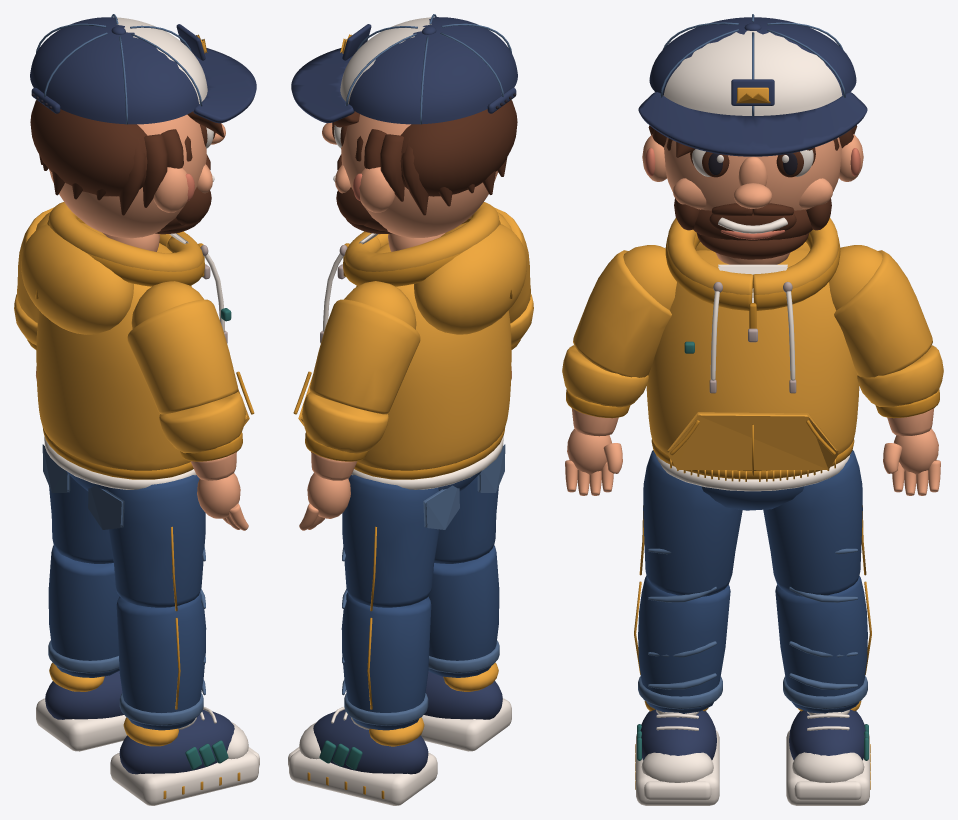
The picture shows the model from 3 angles, left to right: view 1: azimuth 30°, elevation 25°; view 2: azimuth 150°, elevation 25°; view 3: azimuth 270°, elevation 25°; orthographic projection.
Visible parts, largest first — view 1: torso__pal_schoolBusYellow, head__pal_capNavy, head__pal_woodWarm, armR__pal_schoolBusYellow, legR__pal_denimBlue, shinR__pal_denimBlue, head__pal_skinWarm, shinL__pal_denimBlue, footR__pal_picketWhite, head__pal_capNavy.001, footR__pal_capNavy, foreArmR__pal_schoolBusYellow (+17 smaller); view 2: torso__pal_schoolBusYellow, head__pal_capNavy, head__pal_woodWarm, armL__pal_schoolBusYellow, legL__pal_denimBlue, shinL__pal_denimBlue, head__pal_skinWarm, shinR__pal_denimBlue, footL__pal_picketWhite, head__pal_capNavy.001, footL__pal_capNavy, foreArmL__pal_schoolBusYellow (+17 smaller); view 3: torso__pal_schoolBusYellow, head__pal_capNavy, legL__pal_denimBlue, legR__pal_denimBlue, armL__pal_schoolBusYellow, armR__pal_schoolBusYellow, head__pal_skinWarm, head__pal_capNavy.001, shinL__pal_denimBlue, shinR__pal_denimBlue, head__pal_woodWarm, footR__pal_picketWhite (+19 smaller).
Boxes of the visible parts, x1,y1,x2,y2 form: torso__pal_schoolBusYellow: [21, 202, 249, 470]; head__pal_capNavy: [30, 17, 207, 124]; head__pal_woodWarm: [30, 100, 224, 234]; armR__pal_schoolBusYellow: [127, 281, 237, 414]; legR__pal_denimBlue: [108, 475, 205, 607]; shinR__pal_denimBlue: [116, 592, 206, 730]; head__pal_skinWarm: [49, 114, 225, 251]; shinL__pal_denimBlue: [48, 545, 119, 677]; footR__pal_picketWhite: [110, 707, 259, 805]; head__pal_capNavy.001: [31, 24, 256, 123]; footR__pal_capNavy: [119, 709, 234, 774]; foreArmR__pal_schoolBusYellow: [159, 392, 245, 453]; torso__pal_schoolBusYellow: [298, 202, 526, 470]; head__pal_capNavy: [340, 17, 517, 124]; head__pal_woodWarm: [332, 100, 517, 234]; armL__pal_schoolBusYellow: [310, 281, 420, 414]; legL__pal_denimBlue: [342, 475, 439, 607]; shinL__pal_denimBlue: [341, 592, 431, 730]; head__pal_skinWarm: [322, 114, 498, 251]; shinR__pal_denimBlue: [428, 545, 499, 677]; footL__pal_picketWhite: [288, 707, 437, 805]; head__pal_capNavy.001: [291, 24, 516, 123]; footL__pal_capNavy: [313, 709, 428, 774]; foreArmL__pal_schoolBusYellow: [302, 392, 388, 453]; torso__pal_schoolBusYellow: [646, 218, 859, 481]; head__pal_capNavy: [649, 17, 856, 115]; legL__pal_denimBlue: [763, 450, 862, 596]; legR__pal_denimBlue: [643, 450, 742, 596]; armL__pal_schoolBusYellow: [829, 245, 932, 377]; armR__pal_schoolBusYellow: [573, 245, 676, 377]; head__pal_skinWarm: [642, 134, 863, 264]; head__pal_capNavy.001: [638, 23, 867, 156]; shinL__pal_denimBlue: [775, 575, 867, 713]; shinR__pal_denimBlue: [638, 575, 730, 713]; head__pal_woodWarm: [648, 125, 857, 259]; footR__pal_picketWhite: [636, 709, 719, 805].
Bounding box in the file's own units: 0.4227 × 1.44 × 0.6696.
